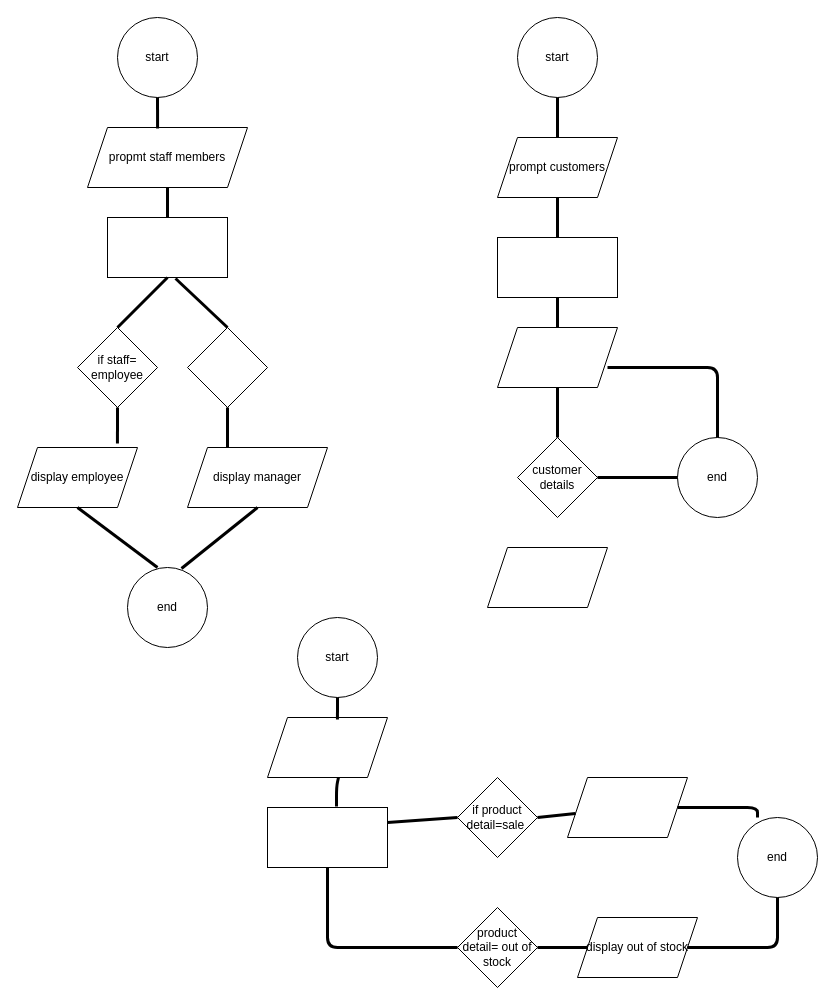
Some shapes in this 835 by 1005 pixel diagram are drawn without their labels. Here are the shapes that lost their labels. From the top down, the box of each, then its label:
(106, 216, 228, 278): enter stuff members details
(496, 236, 618, 298): get customer
(186, 326, 268, 408): if staff= manager
(496, 326, 618, 388): display number of customers
(486, 546, 608, 608): display customer demands
(266, 716, 388, 778): prompt products
(566, 776, 688, 838): display products on sale and price
(266, 806, 388, 868): get product details
